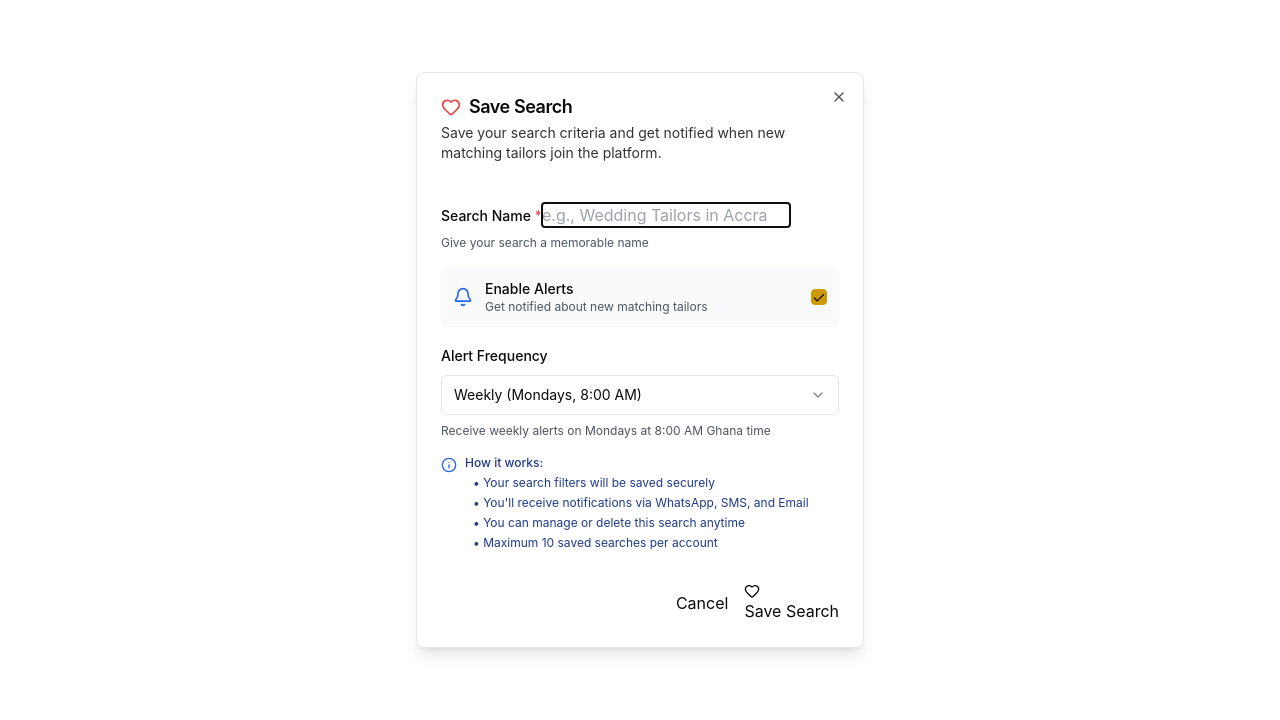
Scenario: SaveSearchDialog › Form Interactions › should toggle alerts when checkbox is clicked
Expected: the text "Alert Frequency" is shown, [441, 347, 548, 364]
Note: Find and click the checkbox
Click the checkbox: (819, 297) [811, 289, 827, 305]
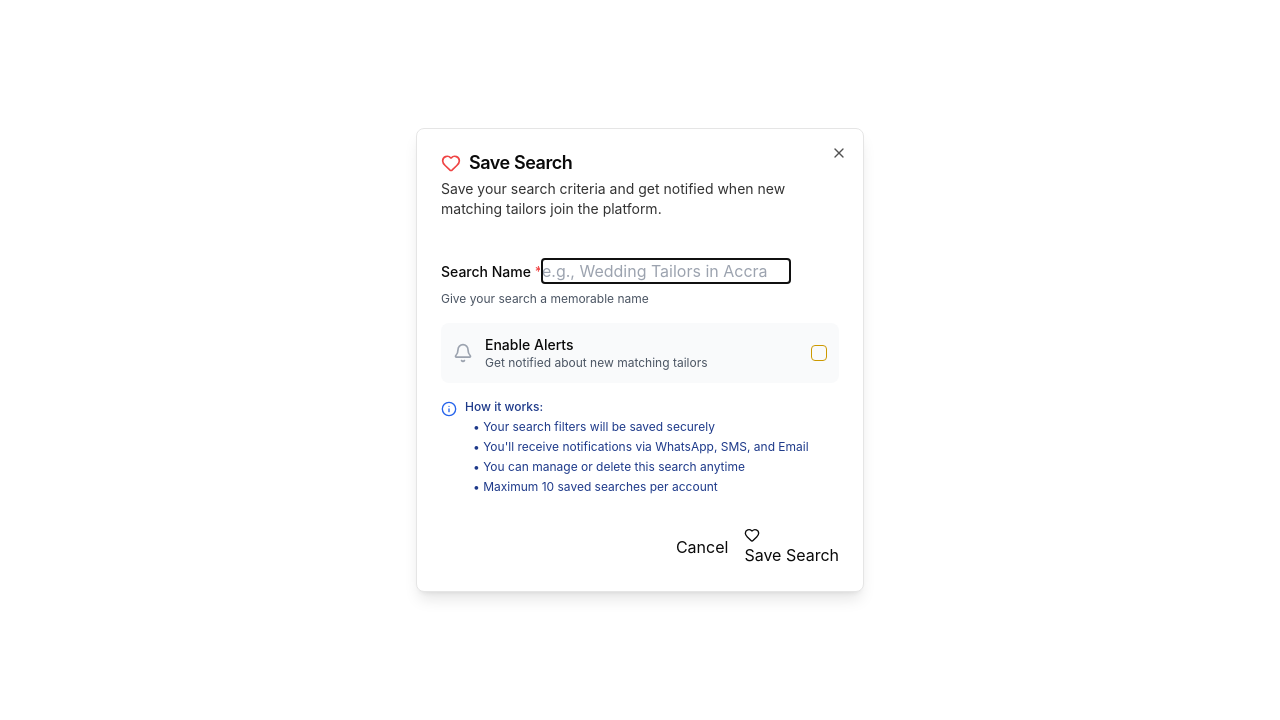
Now the text "Alert Frequency" is gone
